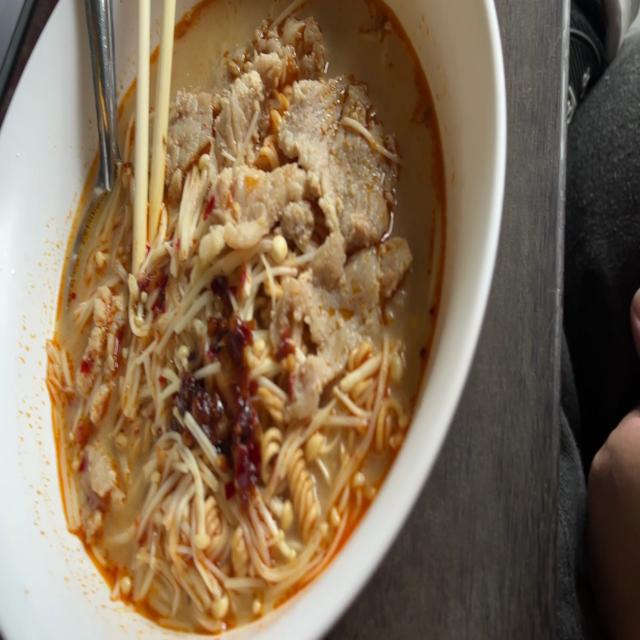noodle: (45, 0, 455, 638)
